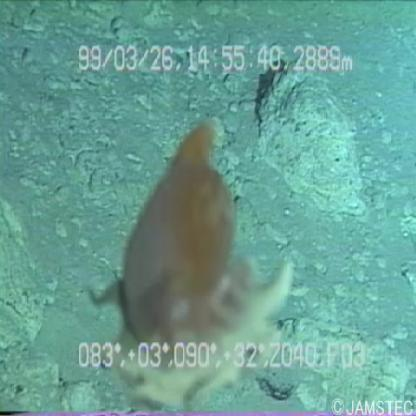Bio: (87, 117, 300, 415)
